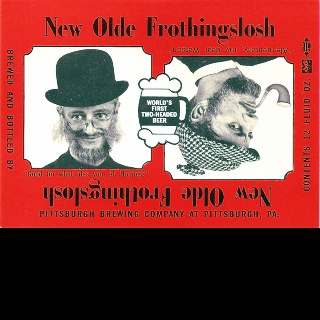without_mask: (208, 80, 262, 151)
